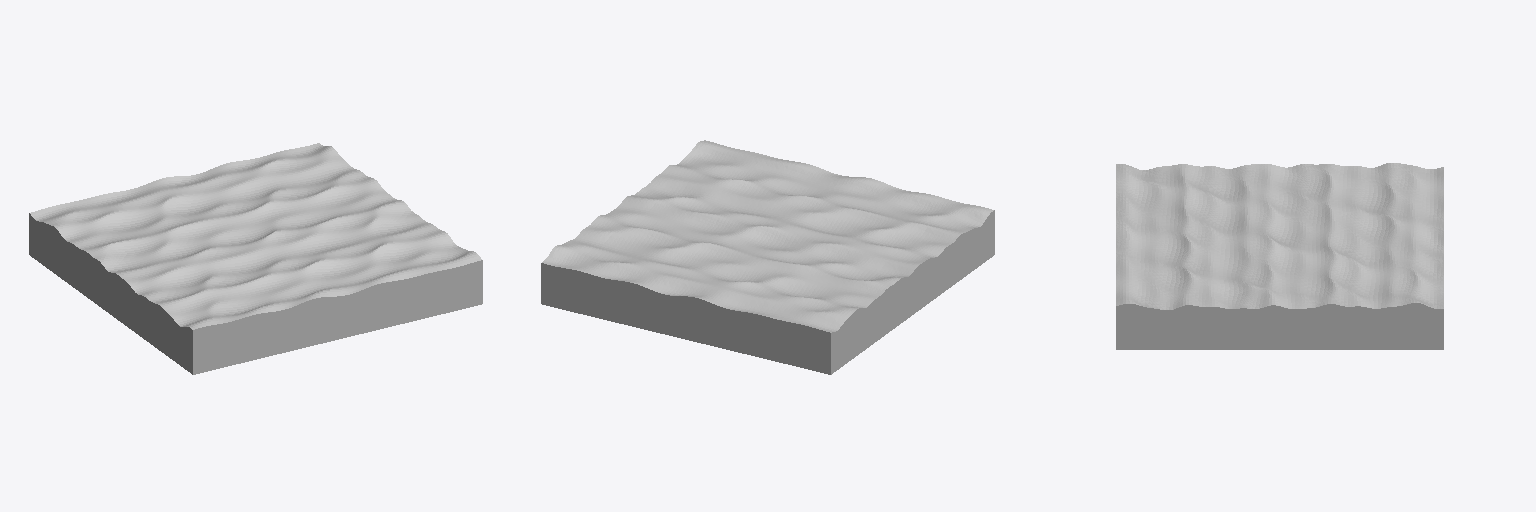
File: mar.obj
The picture shows the model from 3 angles: view 1: azimuth 30°, elevation 25°; view 2: azimuth 150°, elevation 25°; view 3: azimuth 270°, elevation 25°; orthographic projection.
Visible parts, largest first — view 1: object_0; view 2: object_0; view 3: object_0.
Boxes of the visible parts, x1,y1,x2,y2 form: object_0: [29, 143, 482, 374]; object_0: [541, 140, 994, 374]; object_0: [1116, 163, 1443, 349].
Size of the model in its own units: 6.3 by 0.9906 by 6.17.